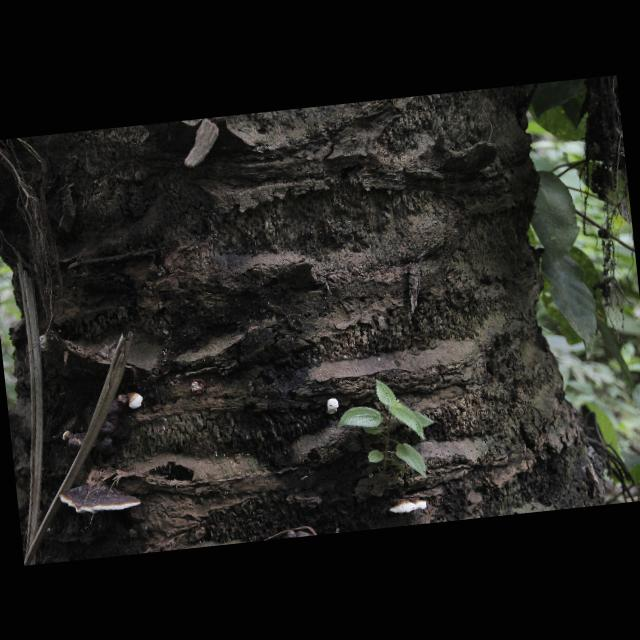ganoderma: (67, 394, 132, 458), (58, 478, 143, 519), (388, 496, 428, 516)
primordium: (127, 392, 145, 411), (324, 399, 340, 417), (39, 334, 50, 353), (63, 431, 73, 443)
